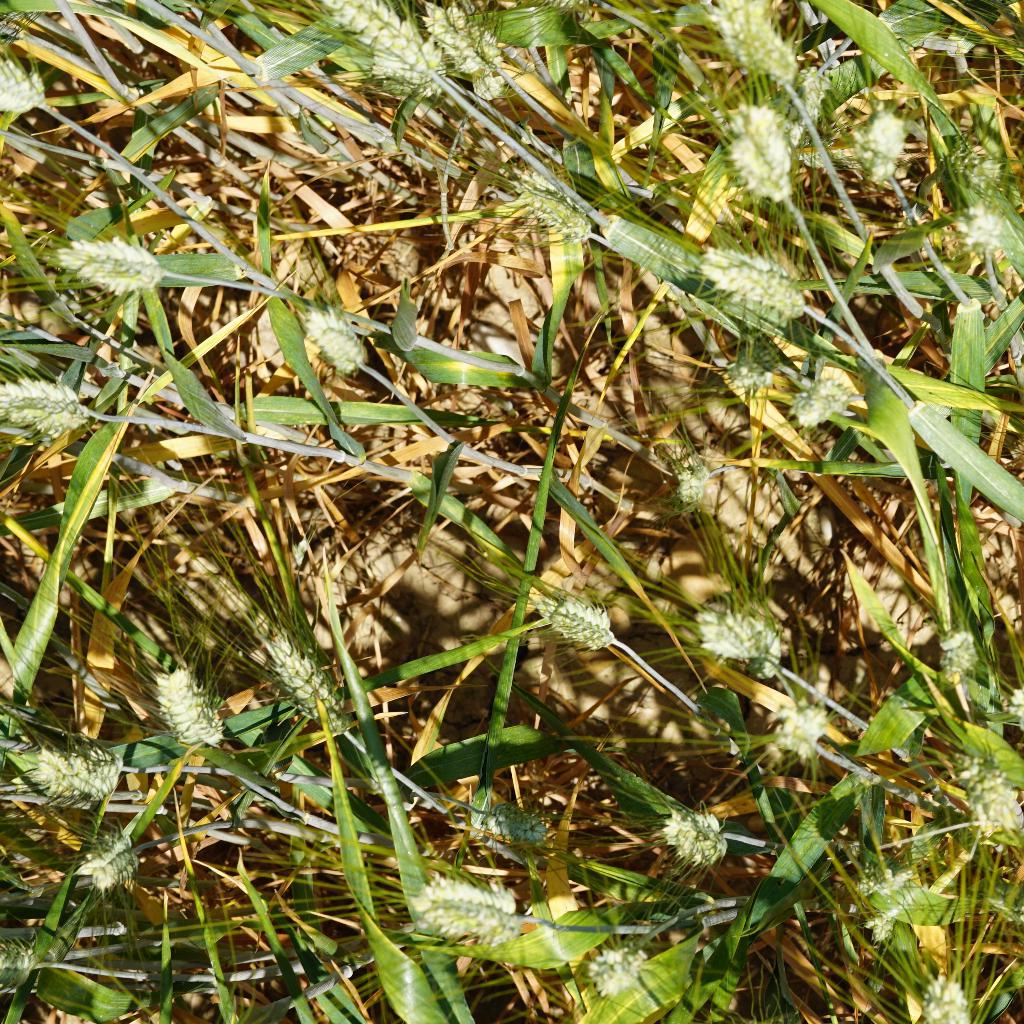0-0: (301, 0, 441, 96), (11, 721, 146, 807), (43, 224, 186, 301), (754, 52, 850, 166), (698, 0, 808, 97), (251, 626, 362, 717), (135, 649, 231, 750), (692, 236, 804, 322), (407, 870, 526, 945), (533, 582, 638, 665), (417, 3, 499, 103), (722, 107, 798, 213), (0, 371, 105, 440), (70, 814, 159, 893), (504, 174, 600, 247), (691, 604, 796, 668), (290, 298, 372, 374), (770, 699, 843, 780), (474, 793, 568, 854), (953, 762, 1024, 841), (650, 800, 737, 858), (841, 847, 932, 901), (911, 965, 993, 1024), (851, 97, 904, 187), (944, 129, 1016, 194), (922, 615, 986, 688), (785, 369, 848, 440), (0, 54, 55, 134), (953, 204, 1024, 262), (660, 455, 717, 518), (593, 934, 645, 991), (717, 344, 769, 399), (0, 939, 48, 997), (861, 901, 901, 953)
